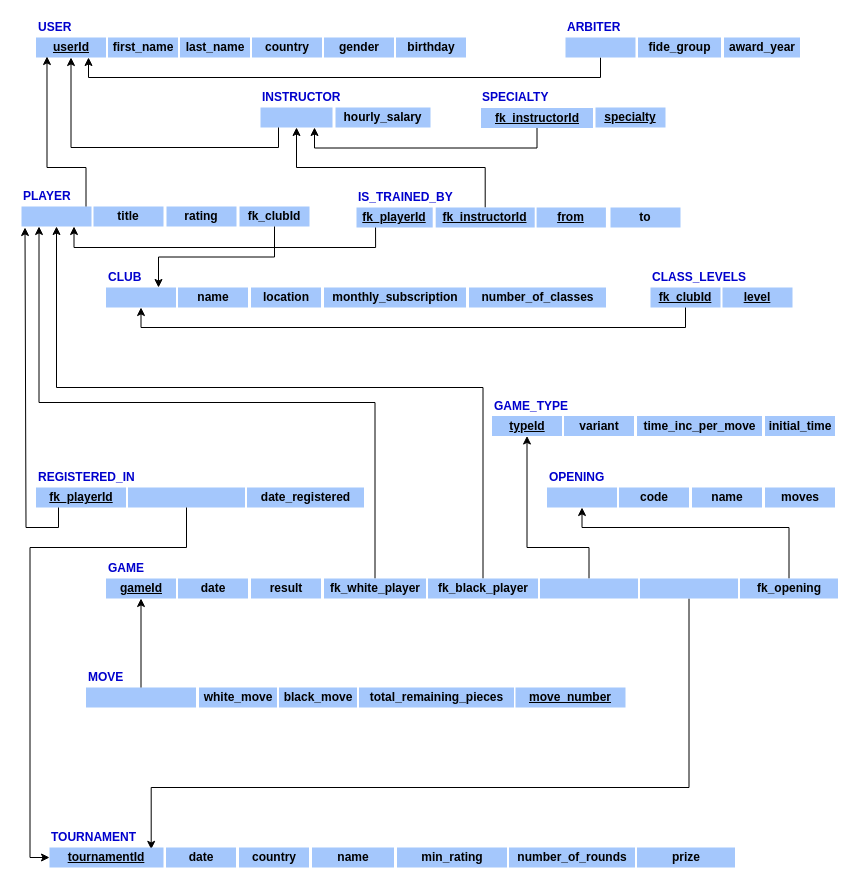
Some shapes in this 855 by 884 pixel diagram are drawn without their labels. The shapes that lost their labels are listed below. From the top down, each one's box as (x1, y1, x2, y2) in pixels, then its label:
(565, 37, 635, 57): arbiterId
(260, 107, 332, 127): instructorId
(21, 206, 91, 226): playerId
(106, 287, 176, 307): clubId
(128, 487, 244, 507): fk_tournamentId
(546, 487, 616, 507): openingid
(540, 578, 638, 598): fk_game_type
(640, 578, 738, 598): fk_tournament
(86, 687, 196, 707): fk_gameId
